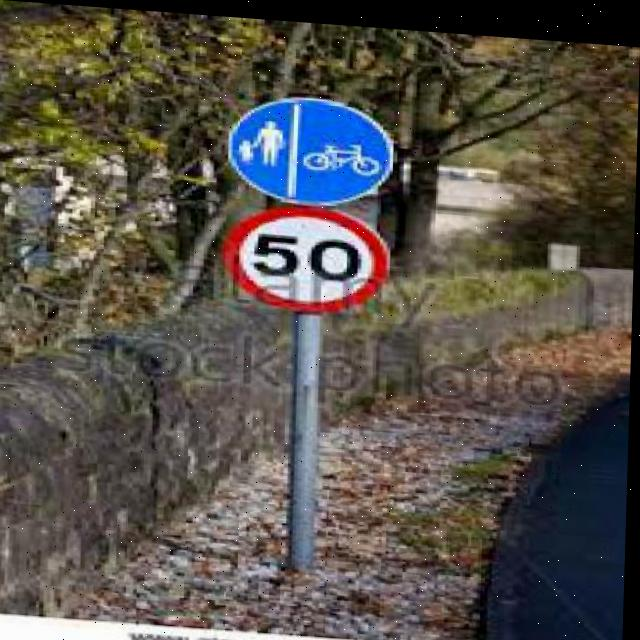Speed limit 50: (219, 196, 395, 317)
